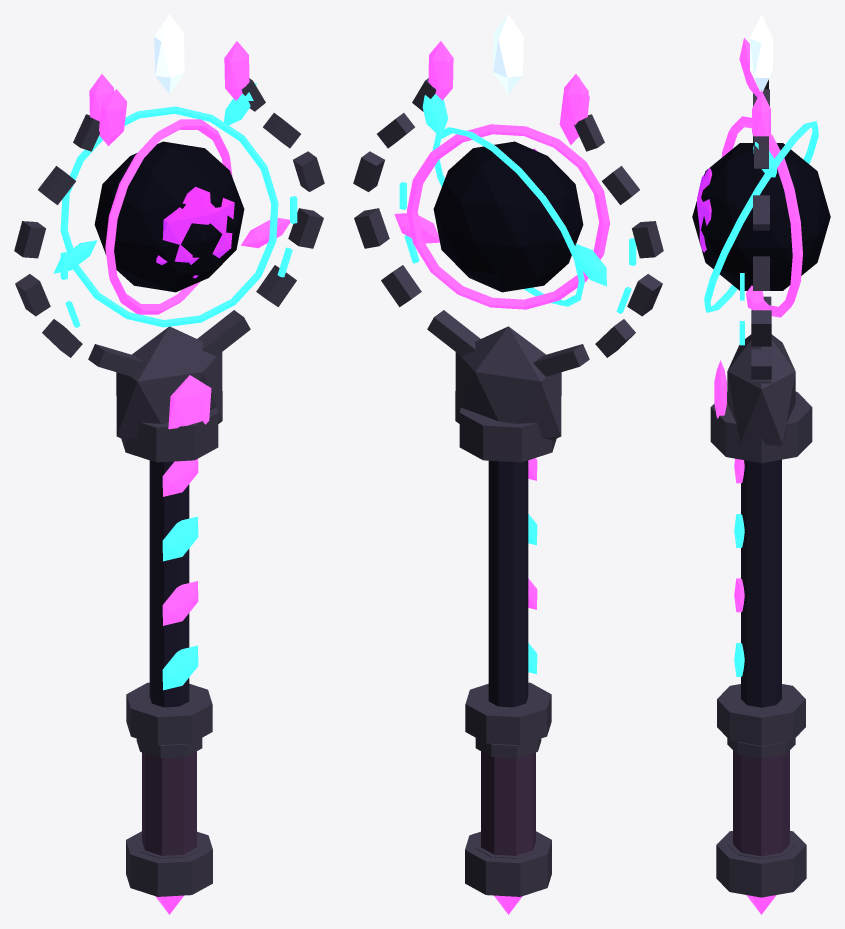
The model's file is Lightless_Scepter.fbx.
3 views of the same model, side by side, from view 1: azimuth 30°, elevation 25°; view 2: azimuth 150°, elevation 25°; view 3: azimuth 270°, elevation 25° (orthographic).
Parts seen in each view (by area): view 1: EventHorizonCore, ThroatOuter, MainShaft, Grip, OrbitRing_Cyan, LowerCollar, PommelSocket, OrbitRing_Violet, UpperCollar, EventHorizonInnerGlow, ApexShard, ThroatGlow (+20 smaller); view 2: EventHorizonCore, MainShaft, ThroatOuter, OrbitRing_Violet, Grip, LowerCollar, PommelSocket, UpperCollar, OrbitRing_Cyan, ApexShard, HeadShoulder_R, CageTipGlow_R (+15 smaller); view 3: EventHorizonCore, MainShaft, Grip, ThroatOuter, LowerCollar, PommelSocket, UpperCollar, OrbitRing_Violet, OrbitRing_Cyan, ApexShard, GripBand.001, Cage_R_01 (+10 smaller).
Boxes of the visible parts, x1,y1,x2,y2 form: EventHorizonCore: [94, 141, 244, 292]; ThroatOuter: [116, 326, 222, 440]; MainShaft: [149, 460, 189, 707]; Grip: [142, 751, 196, 855]; OrbitRing_Cyan: [60, 106, 278, 327]; LowerCollar: [126, 682, 212, 745]; PommelSocket: [126, 831, 212, 896]; OrbitRing_Violet: [105, 119, 232, 314]; UpperCollar: [121, 407, 218, 462]; EventHorizonInnerGlow: [156, 186, 234, 278]; ApexShard: [154, 14, 184, 94]; ThroatGlow: [168, 375, 211, 429]; EventHorizonCore: [433, 141, 583, 292]; MainShaft: [488, 460, 528, 707]; ThroatOuter: [455, 326, 561, 440]; OrbitRing_Violet: [407, 124, 609, 309]; Grip: [481, 751, 535, 855]; LowerCollar: [465, 682, 551, 745]; PommelSocket: [465, 831, 551, 896]; UpperCollar: [459, 407, 556, 462]; OrbitRing_Cyan: [432, 127, 584, 306]; ApexShard: [493, 14, 523, 94]; HeadShoulder_R: [427, 310, 480, 356]; CageTipGlow_R: [428, 41, 453, 100]; EventHorizonCore: [692, 143, 830, 290]; MainShaft: [741, 459, 781, 707]; Grip: [733, 750, 789, 856]; ThroatOuter: [727, 334, 795, 446]; LowerCollar: [717, 684, 805, 745]; PommelSocket: [716, 831, 806, 897]; UpperCollar: [710, 391, 812, 463]; OrbitRing_Violet: [721, 116, 802, 317]; OrbitRing_Cyan: [704, 121, 818, 312]; ApexShard: [750, 14, 772, 91]; GripBand.001: [727, 738, 795, 758]; Cage_R_01: [751, 310, 771, 346].
Bounding box in the file's own units: 56.37 × 161 × 22.4.
